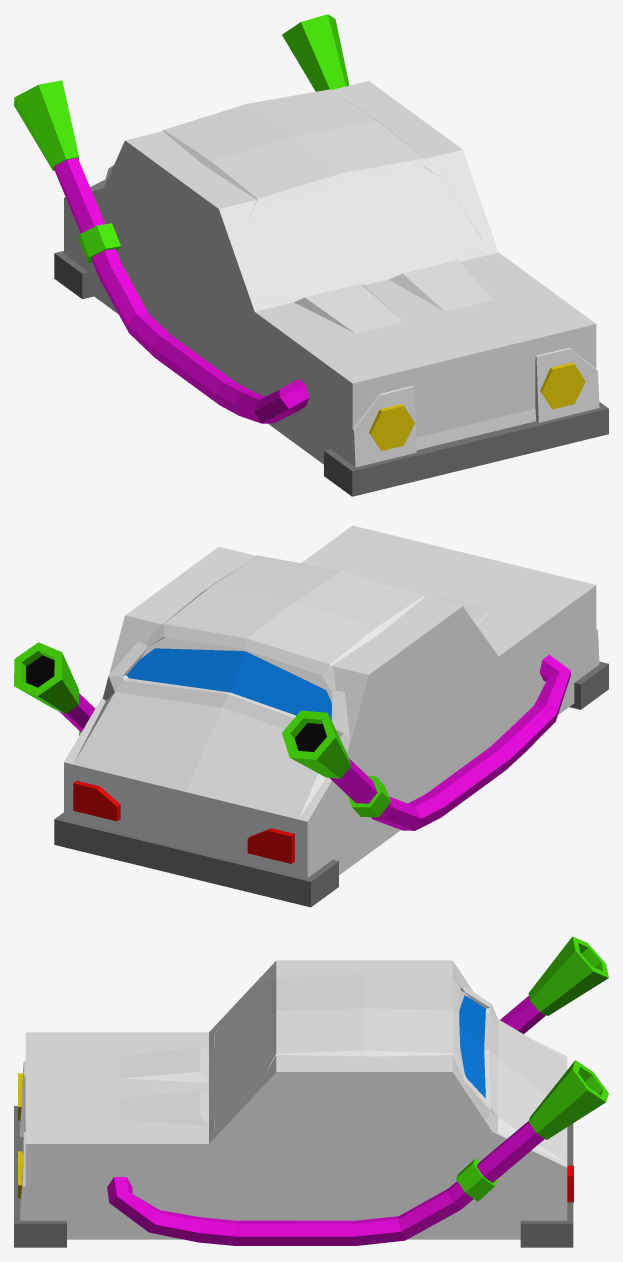
Rendered from PlayerCar.fbx.
3 renders of one model, top to bottom at view 1: azimuth 30°, elevation 25°; view 2: azimuth 150°, elevation 25°; view 3: azimuth 270°, elevation 25°, orthographic. The views are drawn at different scales.
Parts seen in each view (by area): view 1: PlayerCar, CarBase; view 2: PlayerCar, CarBase; view 3: PlayerCar, CarBase.
Boxes of the visible parts, <box> form: PlayerCar: <box>14,14,608,496</box>; CarBase: <box>64,81,596,464</box>; PlayerCar: <box>14,555,608,907</box>; CarBase: <box>64,525,596,877</box>; PlayerCar: <box>14,936,608,1247</box>; CarBase: <box>25,960,567,1239</box>.
Size of the model in its own units: 263 by 155 by 450.
